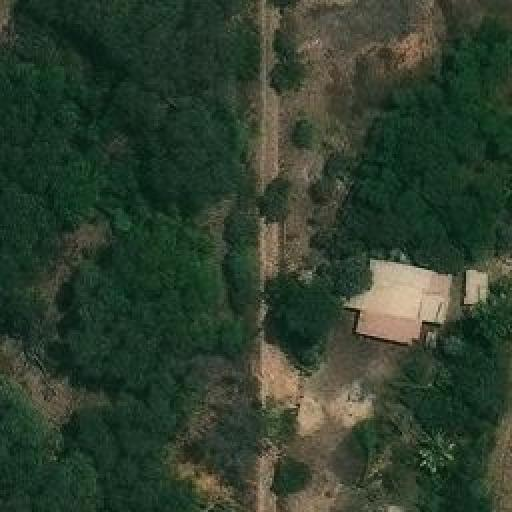manzanas: (333, 247, 491, 349)
